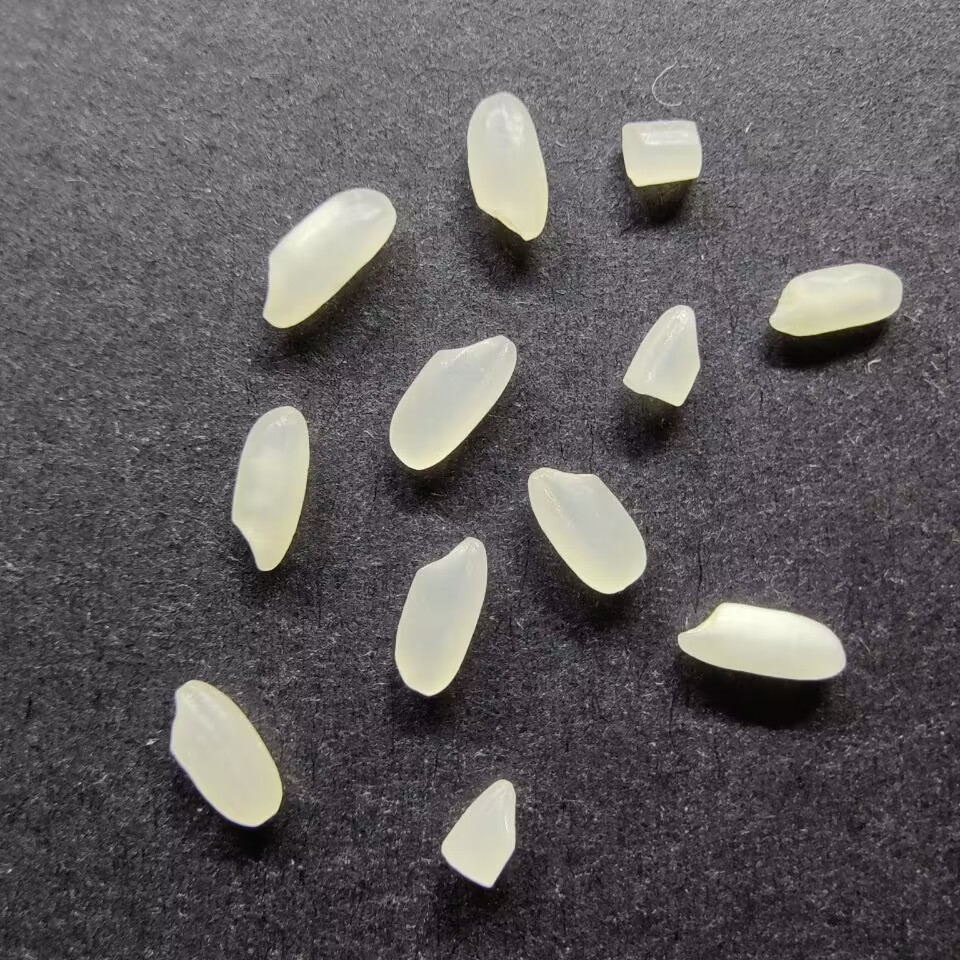broken: (437, 778, 519, 889), (621, 304, 705, 407), (617, 118, 707, 188)
rice: (260, 184, 398, 330), (386, 333, 516, 472), (167, 679, 285, 829), (526, 465, 650, 598), (392, 536, 491, 697), (674, 600, 851, 682), (227, 404, 312, 572), (463, 91, 550, 241), (766, 262, 906, 338)
